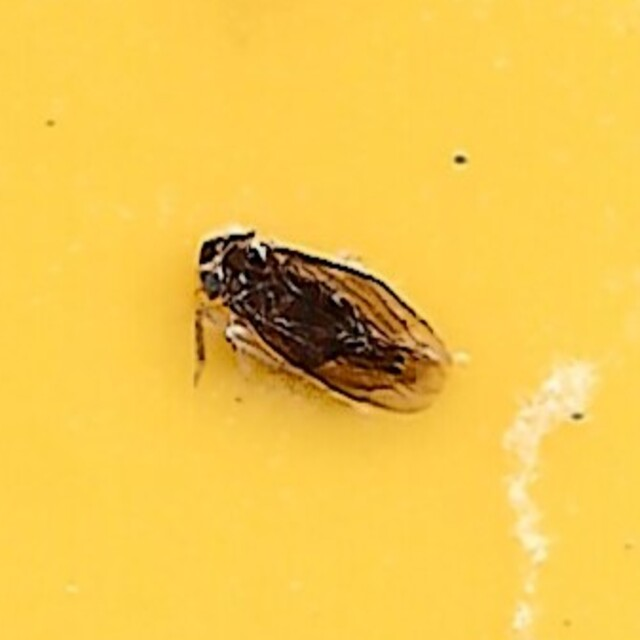Hemiptera: (190, 224, 450, 416)
